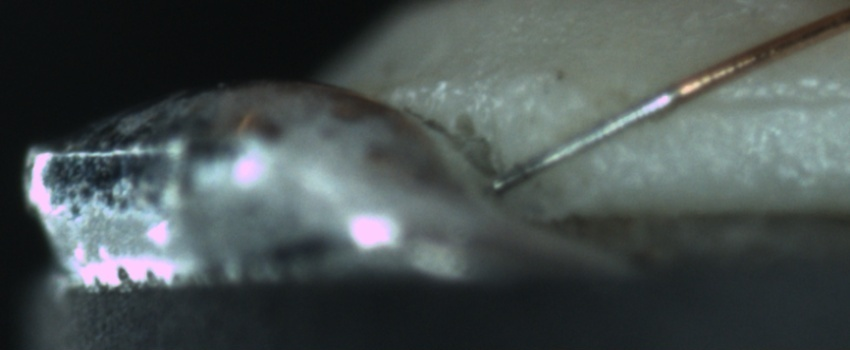DL: (679, 69, 850, 133)
TS: (490, 86, 680, 197)
